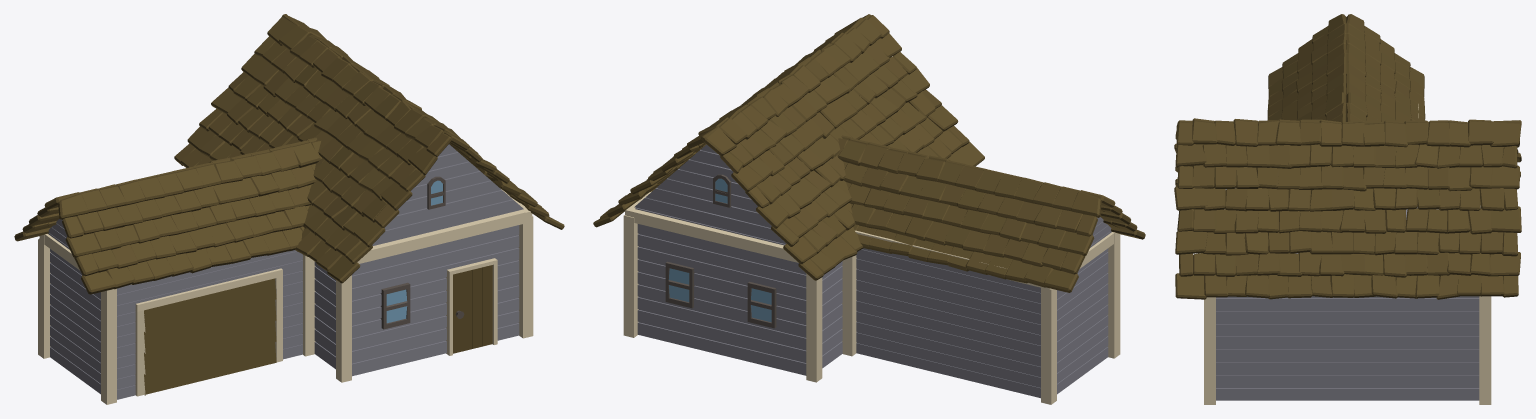
Rendered from HouseC.fbx.
The picture shows the model from 3 angles, left to right: view 1: azimuth 30°, elevation 25°; view 2: azimuth 150°, elevation 25°; view 3: azimuth 270°, elevation 25°; orthographic projection. The views are drawn at different scales.
Parts seen in each view (by area): view 1: Plane.002, Plane, Cube.014, Cube.031, Cube.013, Cube.001, Cylinder, Cube.003, Cube.011, Cube.006, Cube.005, Cube.010 (+3 smaller); view 2: Plane.002, Plane, Cube.013, Cube.014, Cube.001, Cube.019, Cube.010, Cube.007, Cube.008, Cube.011, Cube.009, Cube.018 (+2 smaller); view 3: Plane.002, Cube.014, Plane, Cube.007, Cube.006.
Boxes of the visible parts, x1,y1,x2,y2 form: Plane.002: (174,14,564,283); Plane: (14,137,321,294); Cube.014: (314,210,519,376); Cube.031: (135,268,282,396); Cube.013: (50,249,302,399); Cube.001: (372,144,523,245); Cylinder: (446,258,497,355); Cube.003: (357,210,532,263); Cube.011: (101,288,116,404); Cube.006: (518,216,533,338); Cube.005: (336,275,351,382); Cube.010: (38,235,50,358); Plane.002: (593,14,984,280); Plane: (837,135,1145,292); Cube.013: (856,248,1108,398); Cube.014: (635,207,842,375); Cube.001: (634,144,786,243); Cube.019: (625,206,798,262); Cube.010: (1041,287,1056,404); Cube.007: (623,215,638,337); Cube.008: (806,273,822,382); Cube.011: (1107,233,1120,358); Cube.009: (842,255,856,356); Cube.018: (747,281,776,328); Plane.002: (1174,118,1521,299); Cube.014: (1216,296,1479,400); Plane: (1267,14,1425,122); Cube.007: (1479,296,1491,404); Cube.006: (1204,297,1215,404).
Size of the model in its own units: 720 by 372 by 491.
